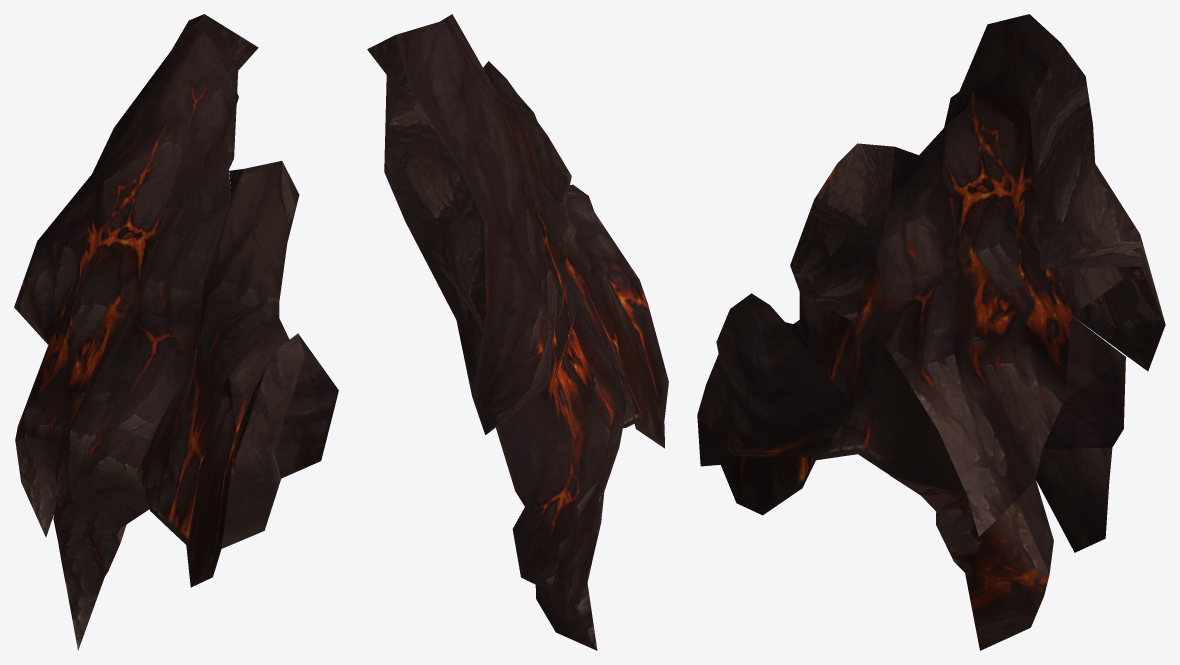
File: hs_shan_26.FBX
3 views of the same model, side by side, from view 1: azimuth 30°, elevation 25°; view 2: azimuth 150°, elevation 25°; view 3: azimuth 270°, elevation 25° (orthographic). The views are drawn at different scales.
Parts seen in each view (by area): view 1: hs_shan_26; view 2: hs_shan_26; view 3: hs_shan_26.
Boxes of the visible parts, x1,y1,x2,y2 form: hs_shan_26: (14, 14, 338, 650); hs_shan_26: (367, 14, 668, 650); hs_shan_26: (697, 14, 1165, 650).
Bounding box in the file's own units: 109 × 260 × 154.
